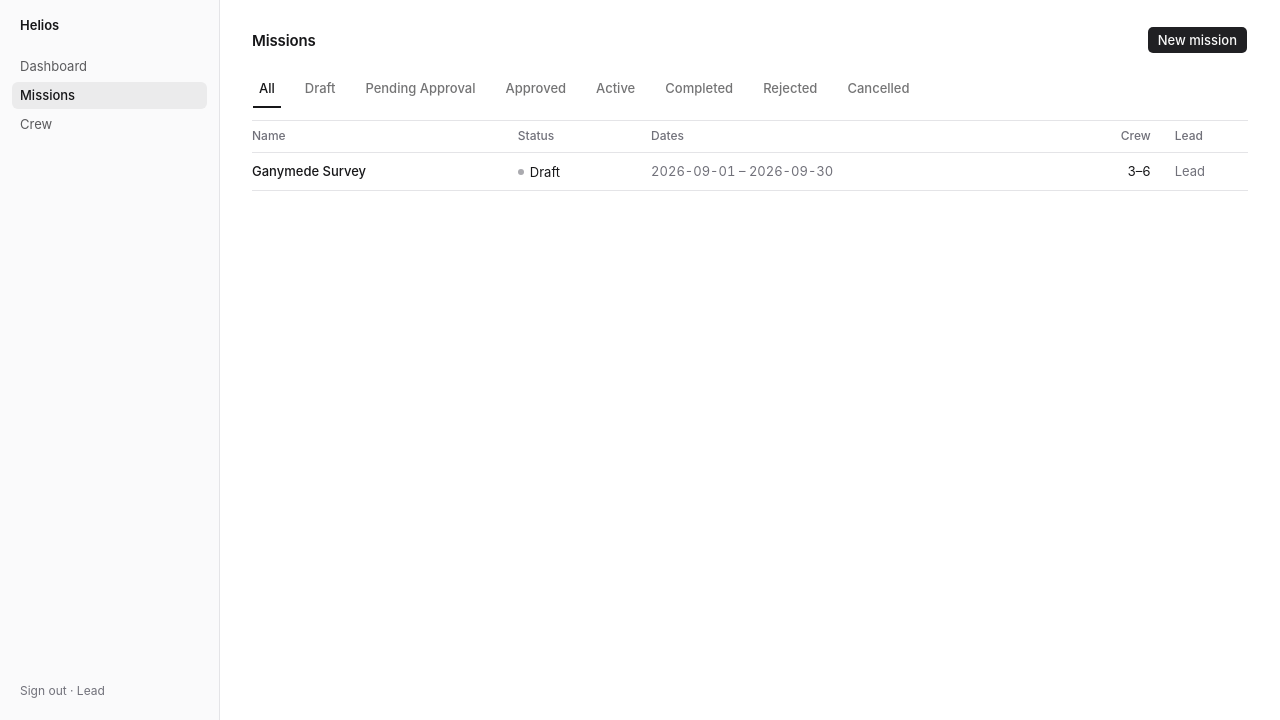
Test: missions list › creates a mission and shows it in the list
Click the button "New mission".
click(1197, 40)  # box left=1147, top=26, right=1248, bottom=54
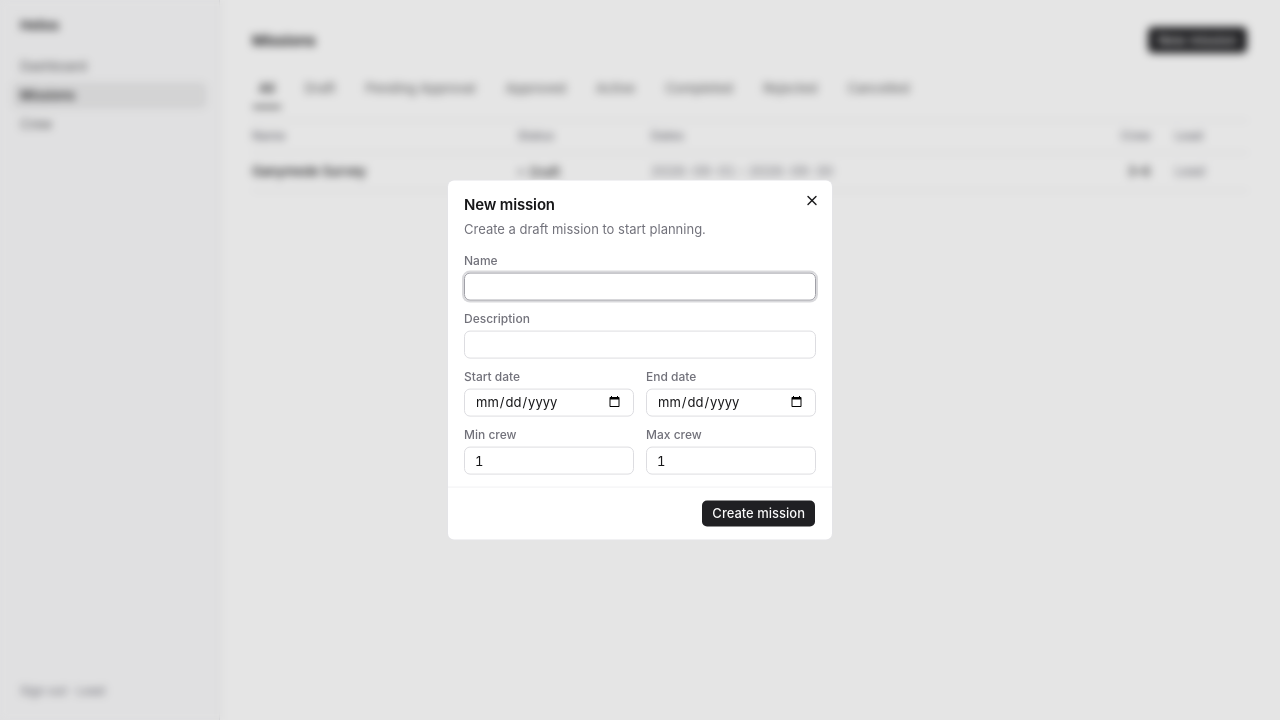
Type "Io Relief Op" into the field labelled "Name".
click(640, 286); type("Io Relief Op")  # box left=464, top=272, right=816, bottom=300
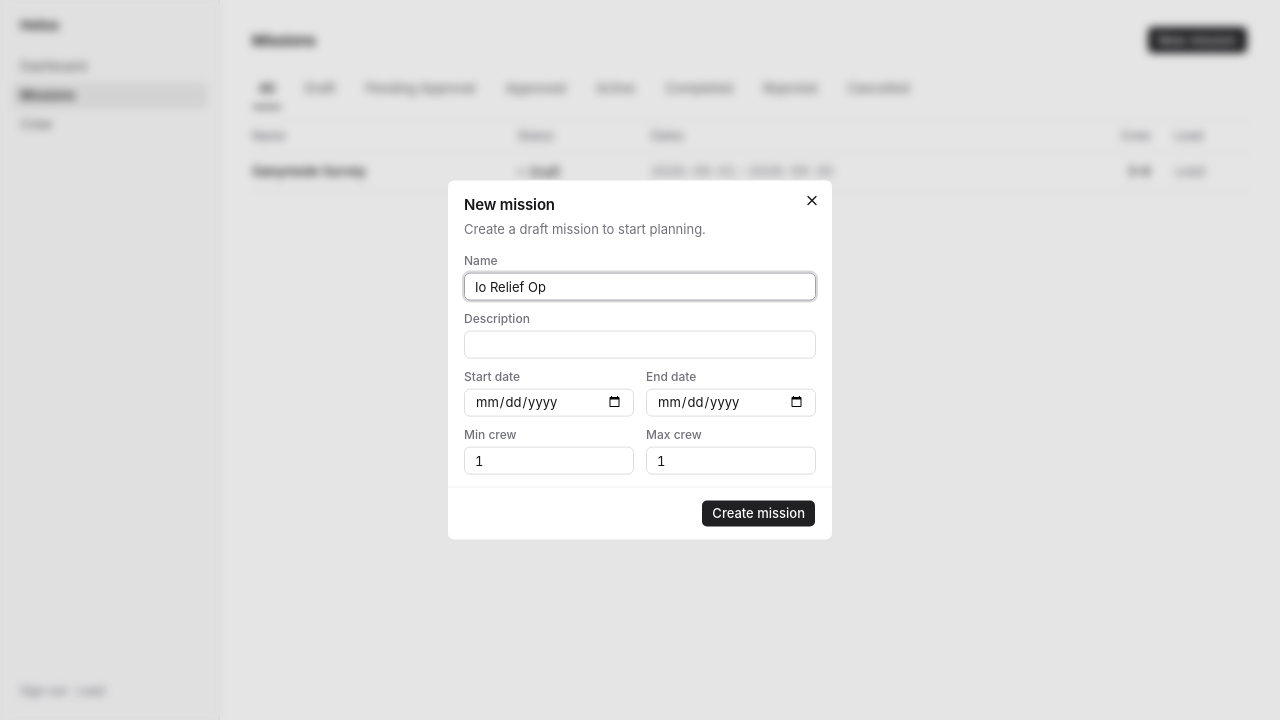
Type "2026-10-01" into the date field labelled "Start date".
click(549, 402); type("2026-10-01")  # box left=464, top=388, right=634, bottom=416
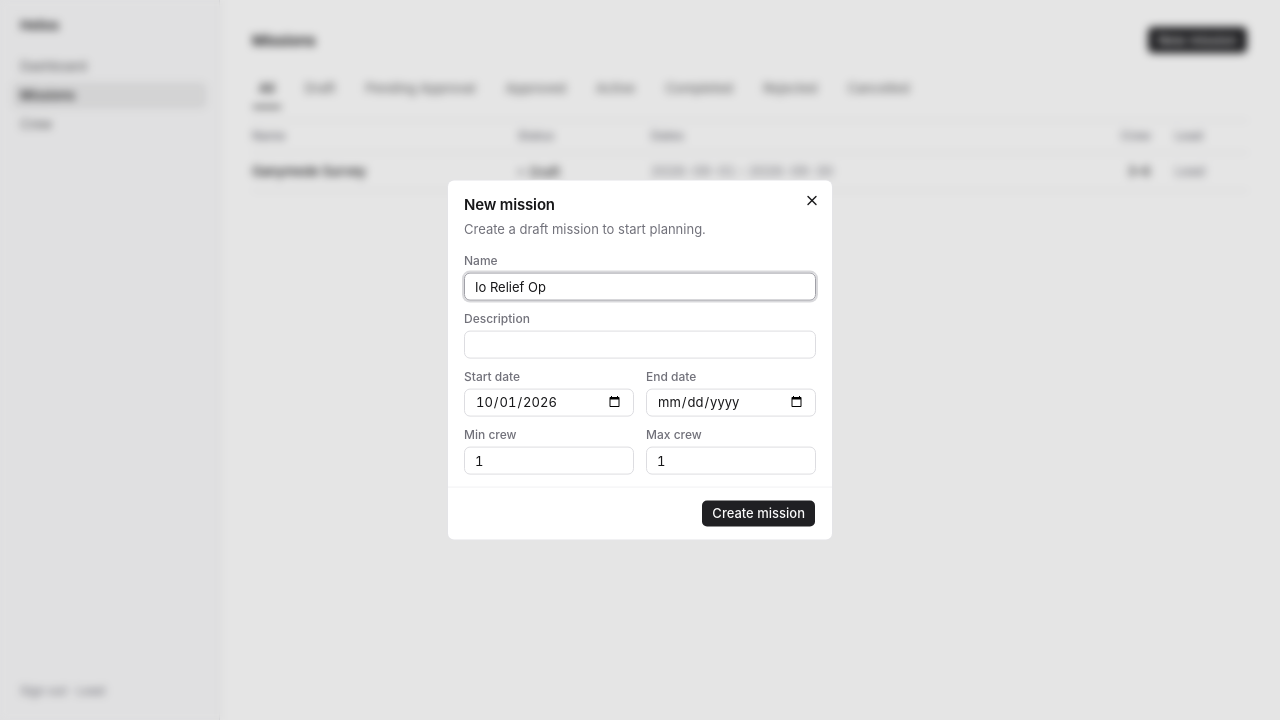
Type "2026-10-15" into the date field labelled "End date".
click(731, 402); type("2026-10-15")  # box left=646, top=388, right=816, bottom=416
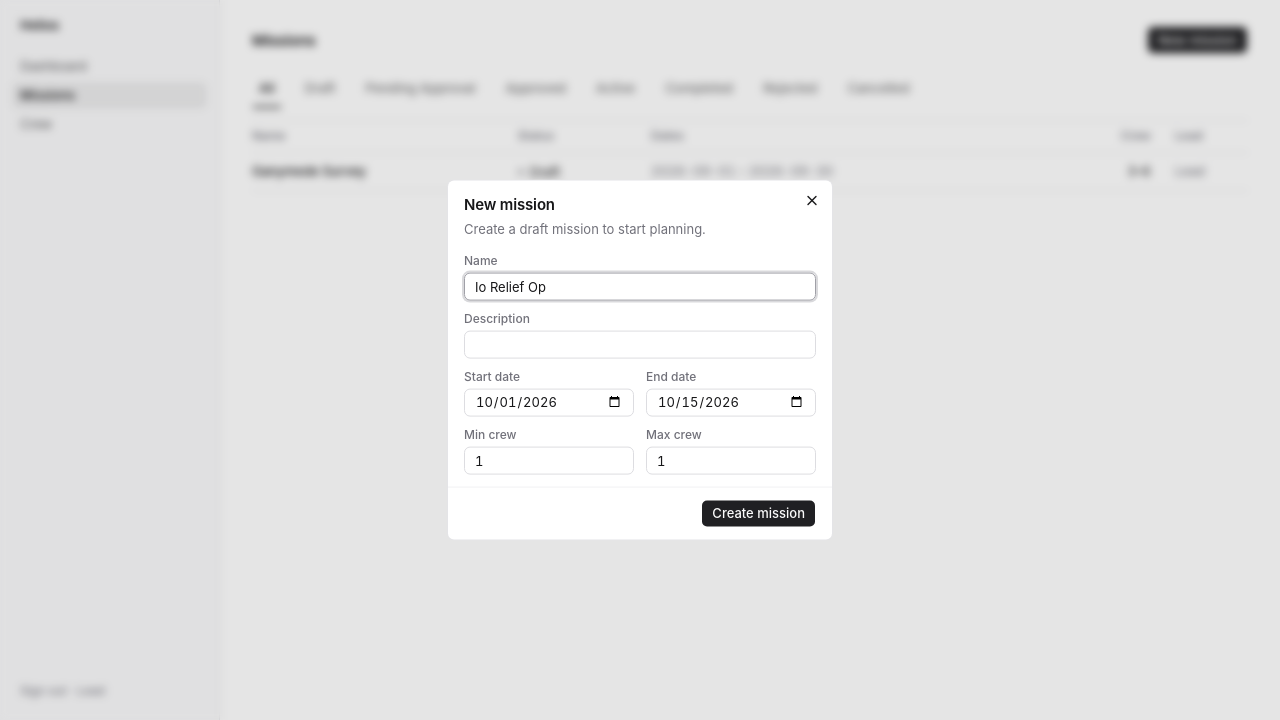
Click the button "Create mission".
click(759, 513)  # box left=701, top=499, right=816, bottom=527
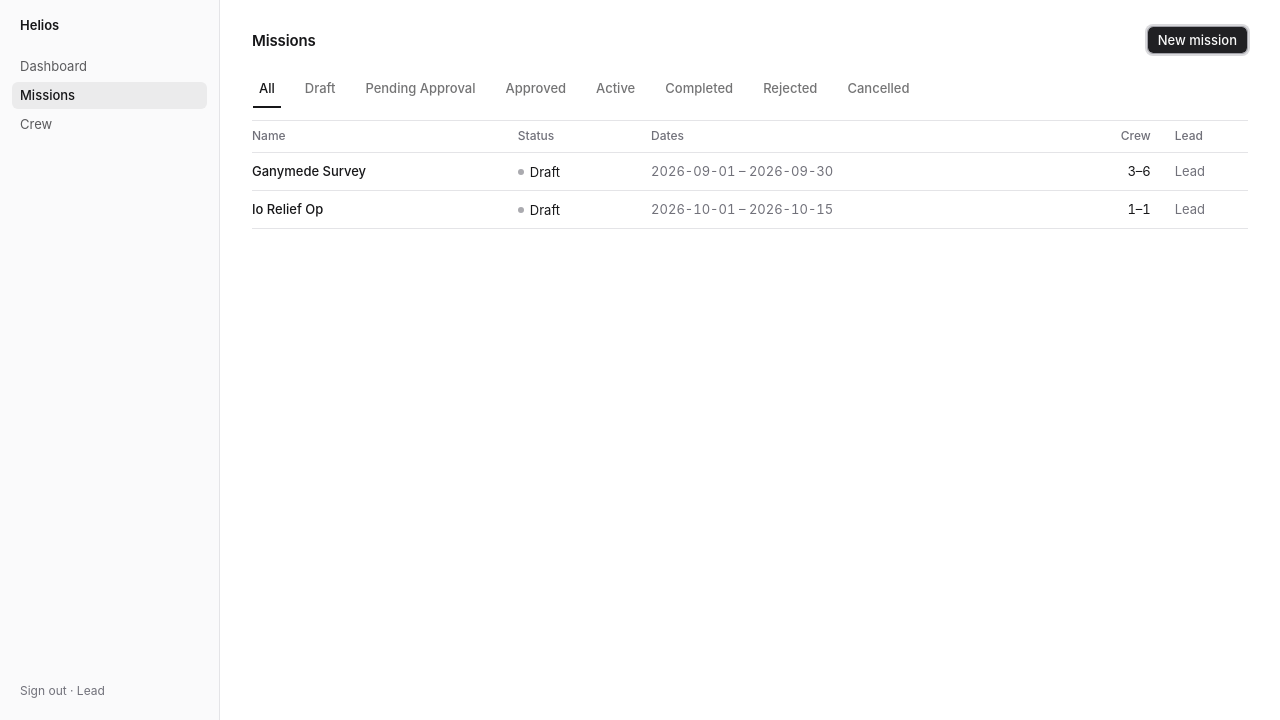
Expected: the link "Ganymede Survey" is shown, left=252, top=163, right=366, bottom=179
Expected: the link "Io Relief Op" is shown, left=252, top=201, right=323, bottom=217
